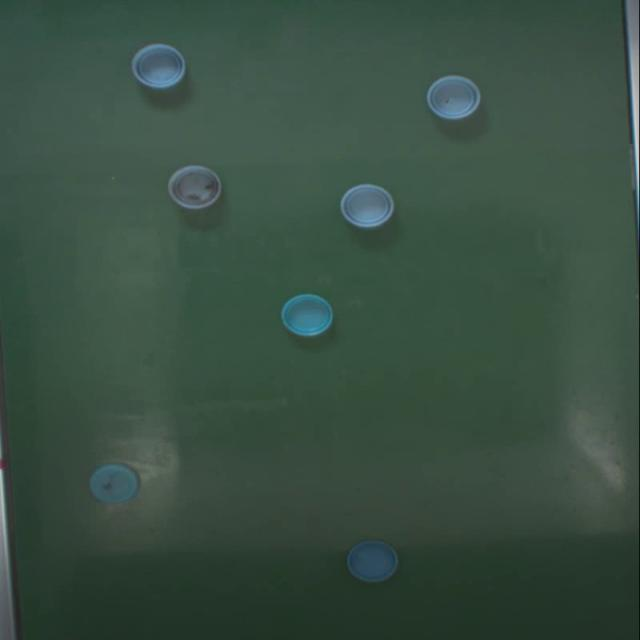light blue: (131, 44, 186, 89), (340, 185, 394, 229), (167, 166, 221, 210), (427, 75, 480, 119), (280, 294, 333, 337), (346, 540, 399, 583), (89, 465, 140, 505)
